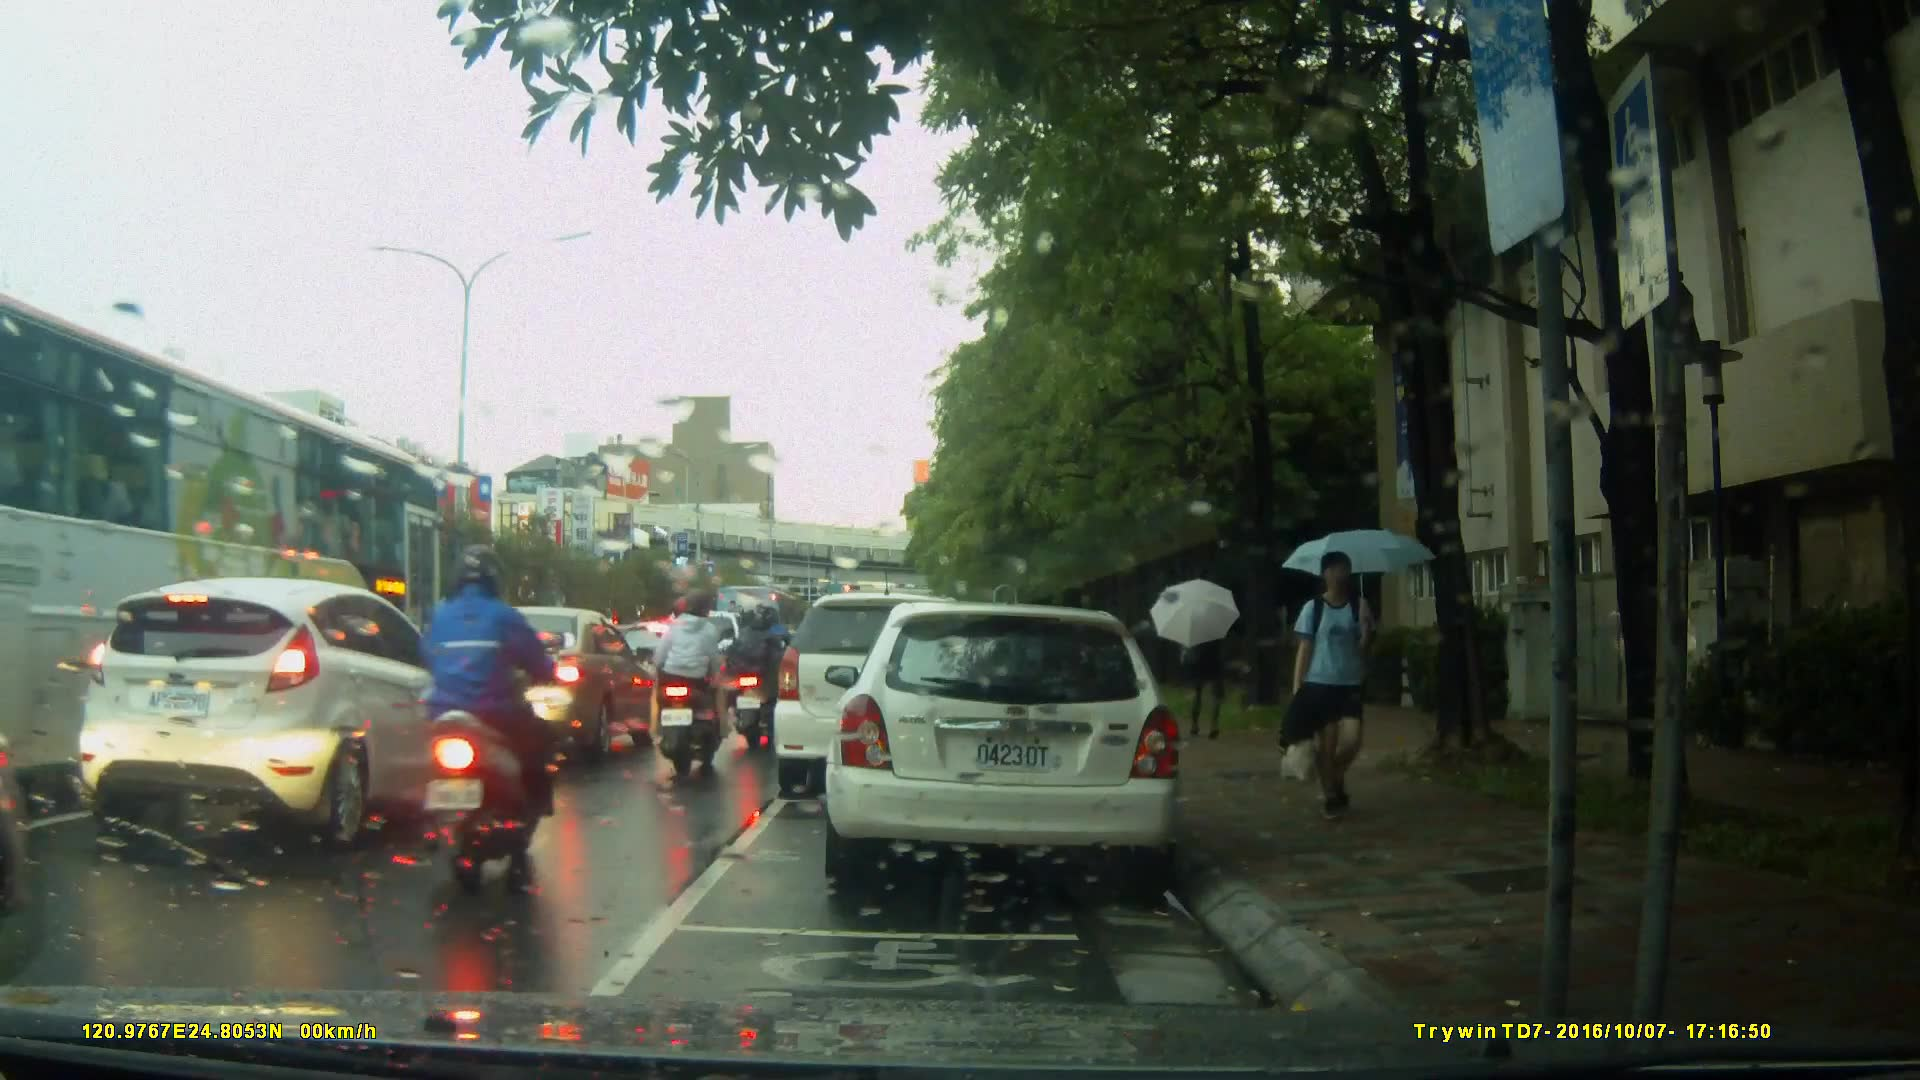pedestrian: (1272, 550, 1388, 825), (1175, 605, 1224, 734)
rider: (408, 545, 563, 880), (656, 591, 732, 786), (743, 603, 800, 744), (727, 601, 771, 751)
vehicle: (1, 288, 461, 807), (76, 575, 482, 857), (835, 594, 1194, 898), (776, 590, 1026, 784), (397, 604, 651, 761), (605, 619, 729, 714)
